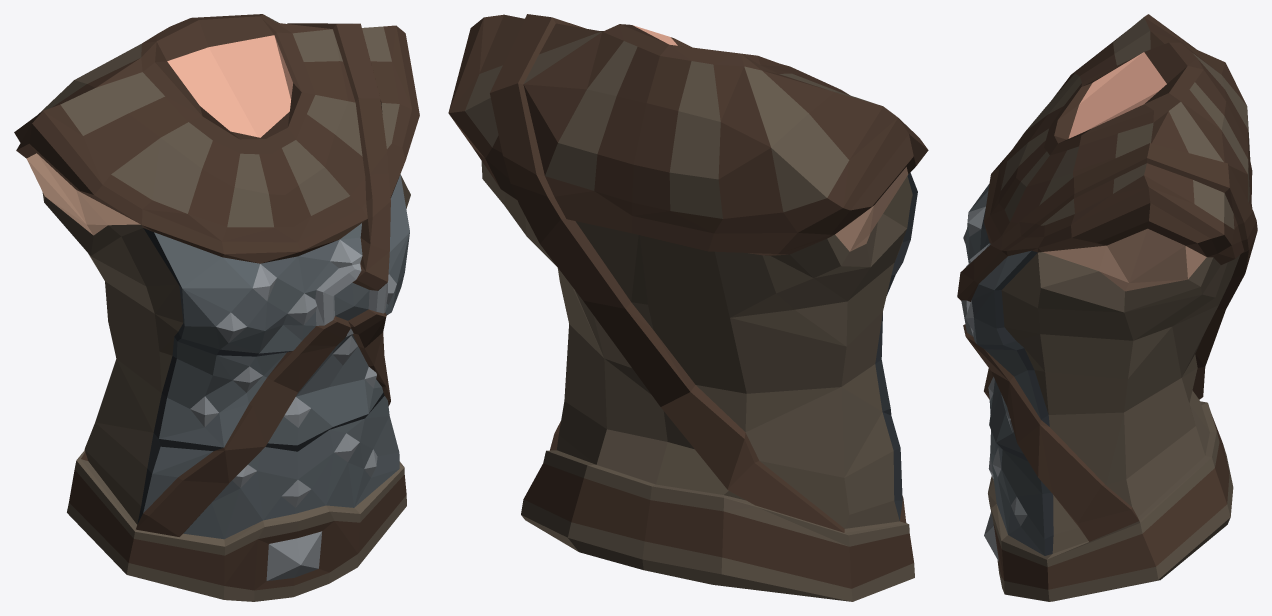
The model's file is Chr_Torso_Female_12_Static.fbx.
The picture shows the model from 3 angles, left to right: view 1: azimuth 30°, elevation 25°; view 2: azimuth 150°, elevation 25°; view 3: azimuth 270°, elevation 25°; orthographic projection. The views are drawn at different scales.
Visible parts, largest first — view 1: Chr_Torso_Female_12_Static; view 2: Chr_Torso_Female_12_Static; view 3: Chr_Torso_Female_12_Static.
Boxes of the visible parts, bbox=[...] form: Chr_Torso_Female_12_Static: bbox=[14, 14, 419, 601]; Chr_Torso_Female_12_Static: bbox=[448, 14, 928, 601]; Chr_Torso_Female_12_Static: bbox=[957, 14, 1257, 601].
Size of the model in its own units: 0.5172 by 0.6642 by 0.3567.
